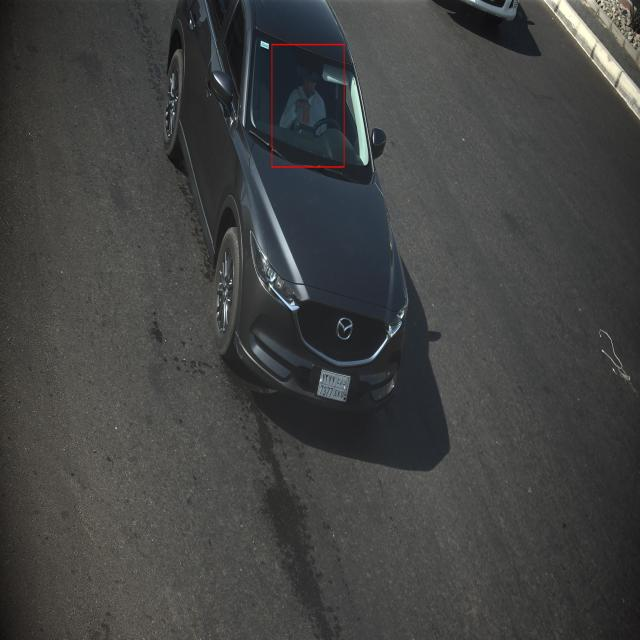windshield: (248, 28, 375, 184)
